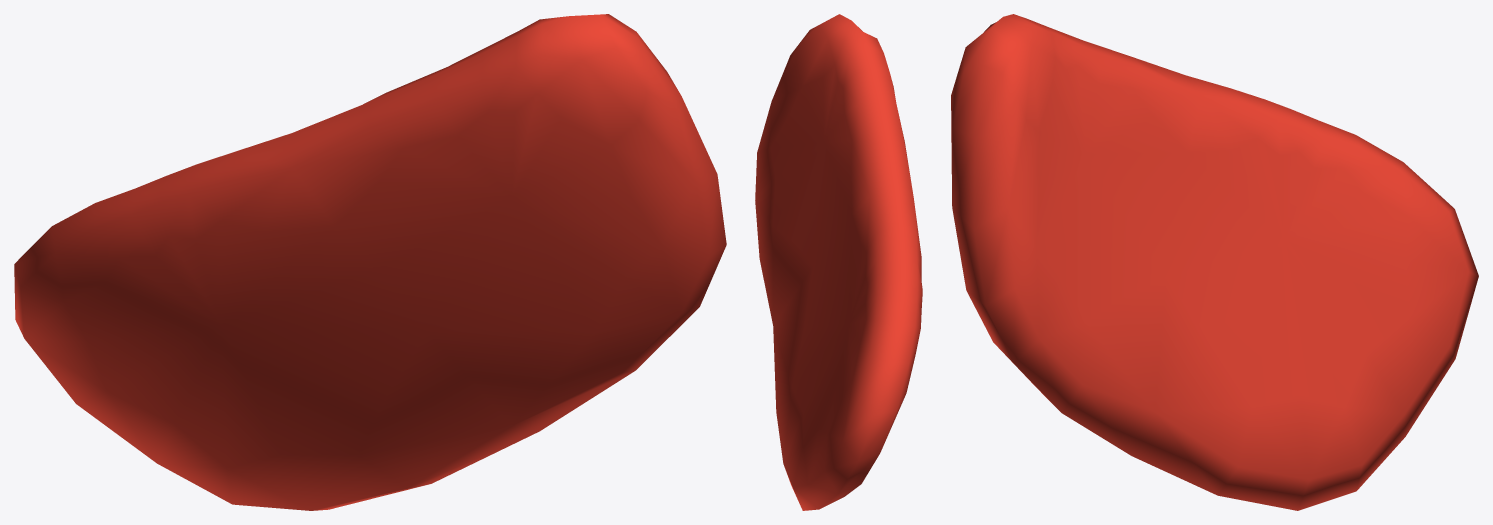
Rendered from Opponens_digiti_minimi_on_tubercle_of_hamate_bone.l_Generated_M.glb.
3 renders of one model, left to right at view 1: azimuth 30°, elevation 25°; view 2: azimuth 150°, elevation 25°; view 3: azimuth 270°, elevation 25°, orthographic. The views are drawn at different scales.
Parts seen in each view (by area): view 1: Opponens_digiti_minimi_on_tubercle_of_hamate_bone.l_Generate; view 2: Opponens_digiti_minimi_on_tubercle_of_hamate_bone.l_Generate; view 3: Opponens_digiti_minimi_on_tubercle_of_hamate_bone.l_Generate.
Part boxes in pixels (left/top/right/bottom): Opponens_digiti_minimi_on_tubercle_of_hamate_bone.l_Generate: left=14, top=14, right=726, bottom=510; Opponens_digiti_minimi_on_tubercle_of_hamate_bone.l_Generate: left=755, top=14, right=922, bottom=510; Opponens_digiti_minimi_on_tubercle_of_hamate_bone.l_Generate: left=951, top=14, right=1478, bottom=510.
Size of the model in its own units: 0.00276 by 0.00347 by 0.00314.
